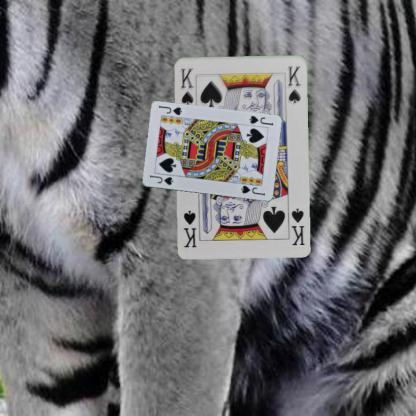Js: (147, 172, 174, 187), (246, 113, 274, 127)
Ks: (176, 66, 195, 106), (288, 206, 306, 246)
